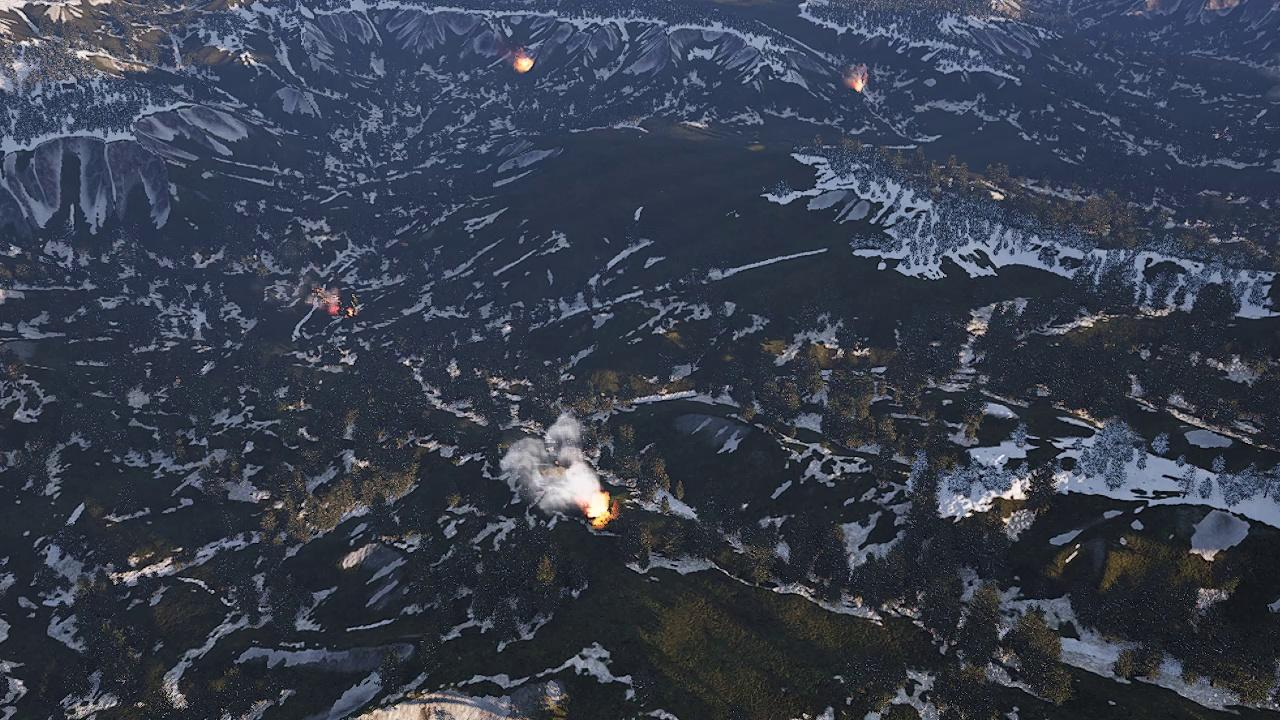fire: (581, 492, 611, 526), (327, 300, 359, 320), (849, 75, 867, 92), (513, 57, 532, 73)
smoke: (498, 411, 606, 513)
